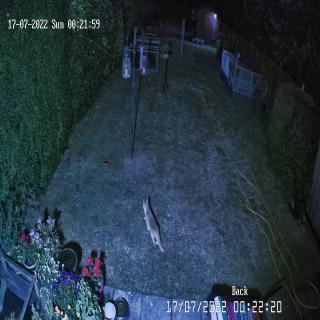cat: (142, 197, 164, 253)
